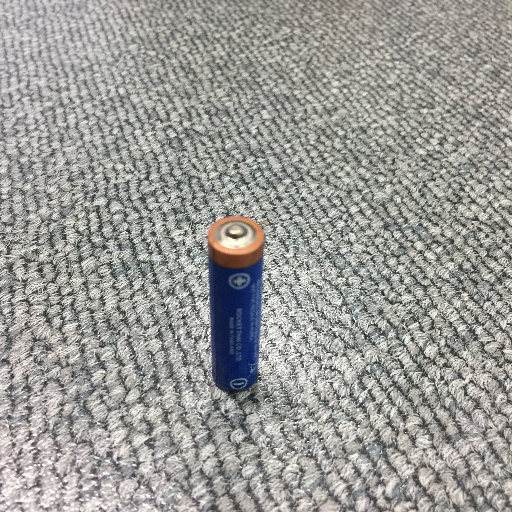Battery_0: (202, 204, 271, 397)
